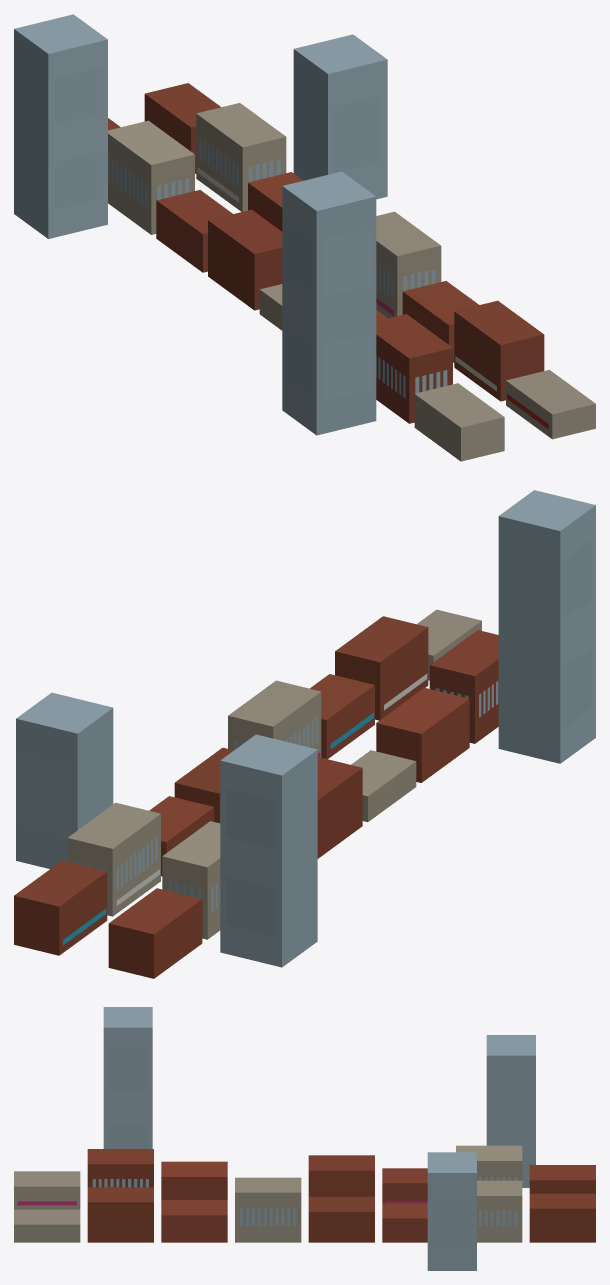
The picture shows the model from 3 angles, top to bottom: view 1: azimuth 30°, elevation 25°; view 2: azimuth 150°, elevation 25°; view 3: azimuth 270°, elevation 25°; orthographic projection. The views are drawn at different scales.
Parts seen in each view (by area): view 1: flushing-main-street-lod3; view 2: flushing-main-street-lod3; view 3: flushing-main-street-lod3.
Boxes of the visible parts, x1,y1,x2,y2 form: flushing-main-street-lod3: [14, 14, 595, 461]; flushing-main-street-lod3: [14, 490, 595, 978]; flushing-main-street-lod3: [14, 1007, 595, 1270].
Bounding box in the file's own units: 150 × 108 × 356.
